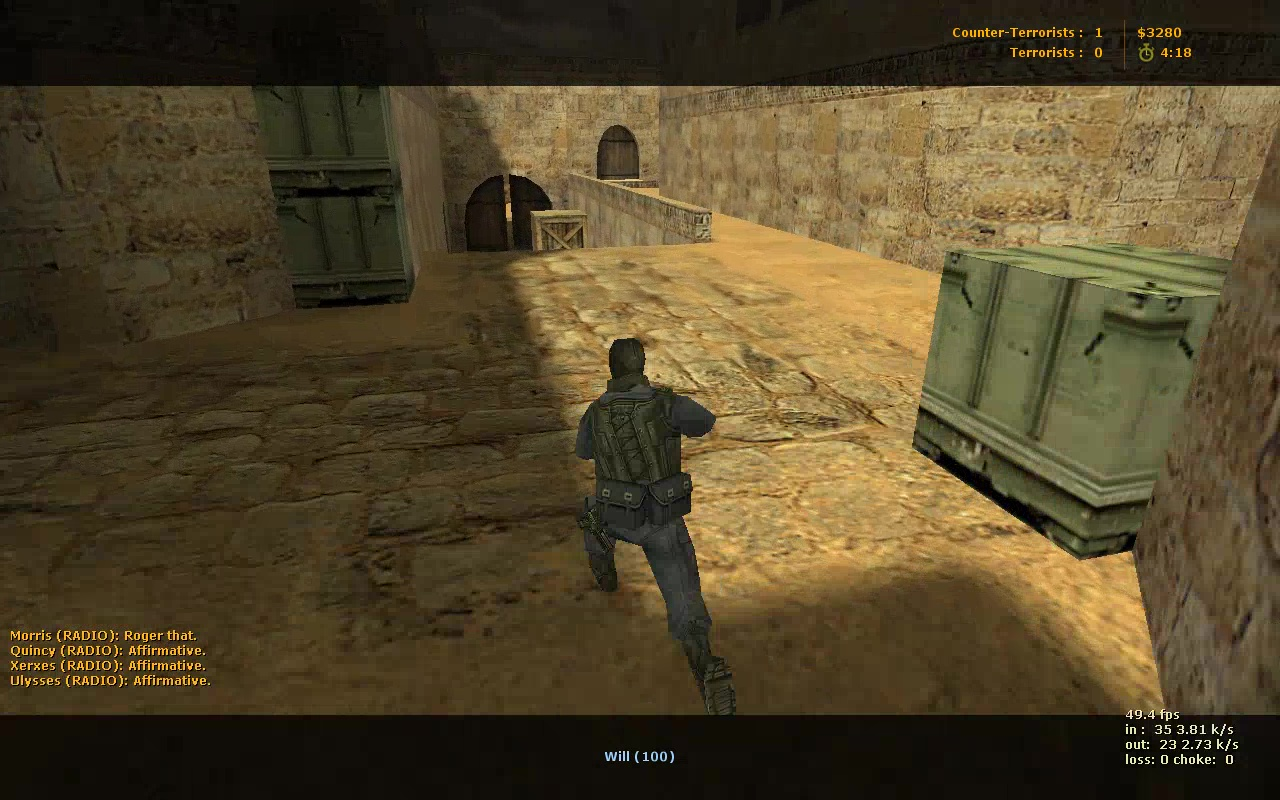ct: (572, 338, 739, 719)
